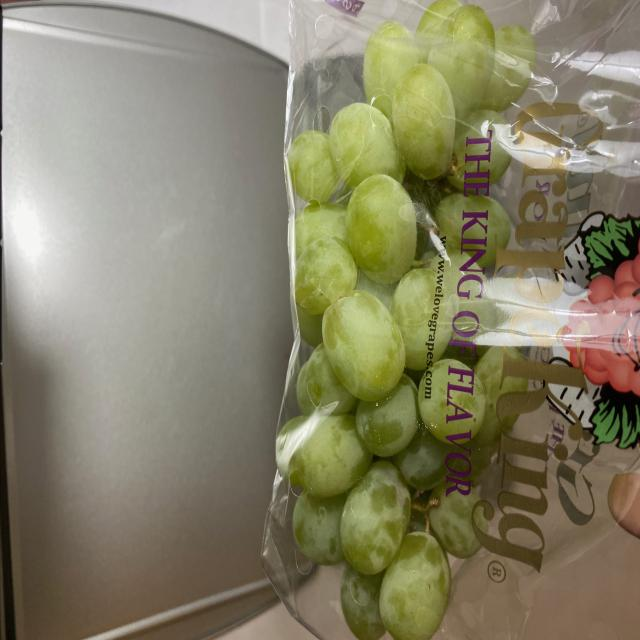grapes: (266, 0, 529, 634)
